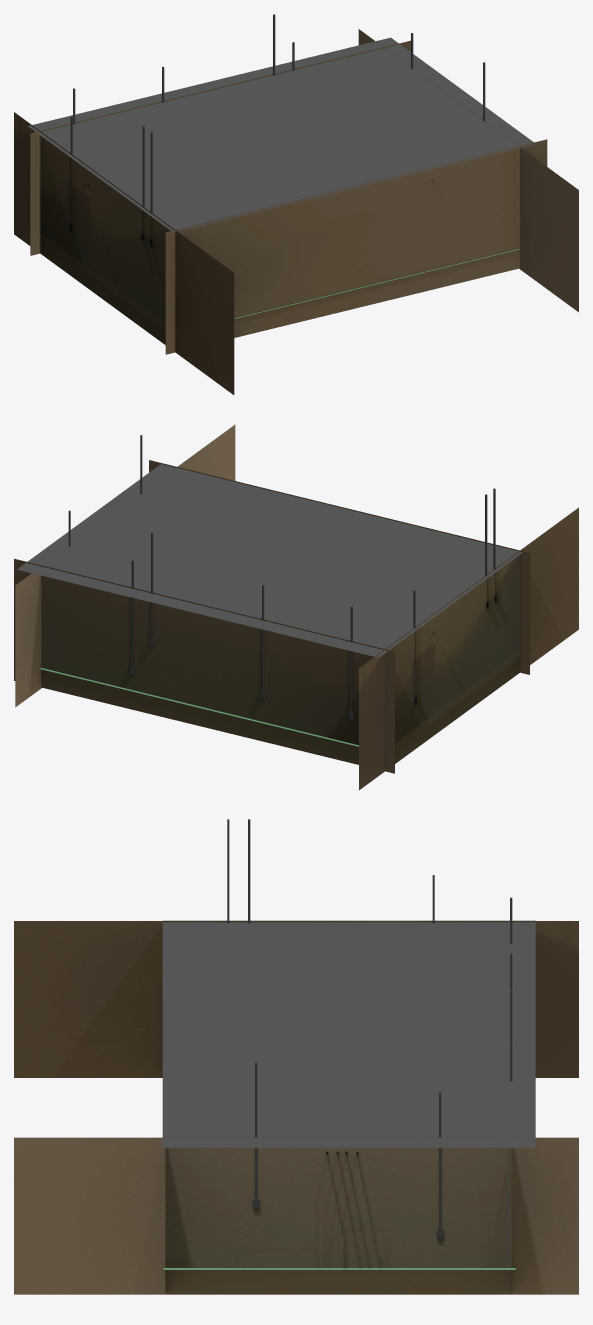
File: MLP_Ambiente_Mobile.glb
The picture shows the model from 3 angles, top to bottom: view 1: azimuth 30°, elevation 25°; view 2: azimuth 150°, elevation 25°; view 3: azimuth 270°, elevation 25°; orthographic projection. The views are drawn at different scales.
Visible parts, largest first — view 1: Plane.006, Plane.002, Plane.004, Plane.003, Plane.001; view 2: Plane.006, Plane.001, Plane.004, Plane.003, Plane.002, Plane; view 3: Plane.003, Plane.006, Plane.004, Plane.
Part boxes in pixels (box(x1,y1,x2,y2)): Plane.006: box(28, 37, 535, 232); Plane.002: box(165, 139, 547, 354); Plane.004: box(14, 112, 234, 394); Plane.003: box(358, 29, 578, 312); Plane.001: box(30, 40, 410, 255); Plane.006: box(17, 464, 522, 657); Plane.001: box(14, 558, 394, 773); Plane.004: box(359, 507, 578, 790); Plane.003: box(15, 424, 235, 707); Plane.002: box(149, 460, 529, 674); Plane: box(40, 668, 358, 746); Plane.003: box(14, 1137, 578, 1294); Plane.006: box(162, 920, 535, 1147); Plane.004: box(14, 921, 578, 1077); Plane: box(163, 1268, 515, 1269).
Size of the model in its own units: 14.51 by 8.06 by 14.51.
27 materials, 17 textured.
